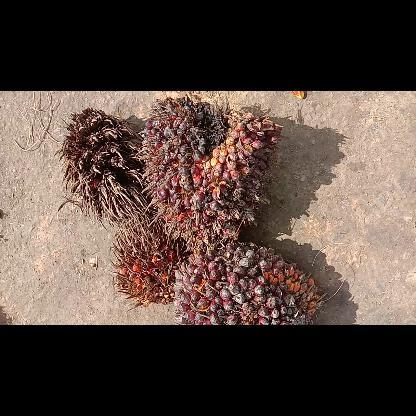Janjang kosong: (54, 106, 160, 226)
Kurang masak: (174, 240, 330, 324)
TBS masak: (134, 96, 288, 250)
Terlalu masak: (108, 214, 192, 312)
